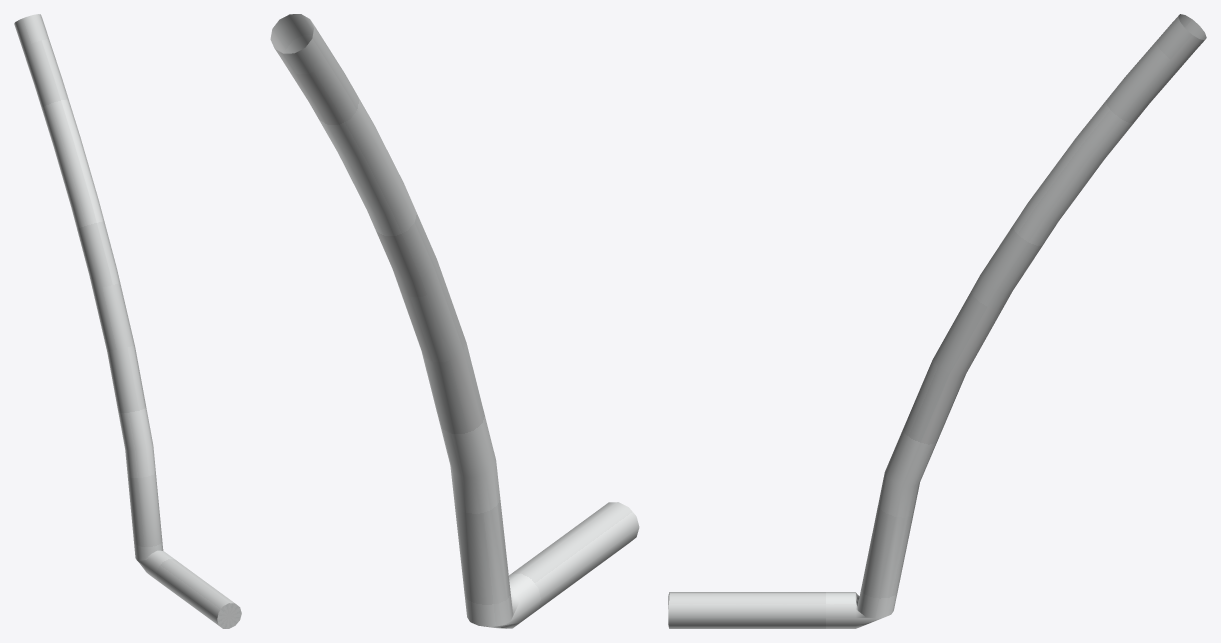
File: luminairearm_laupsweep12ft_c1_pedestal.obj
The picture shows the model from 3 angles, left to right: view 1: azimuth 30°, elevation 25°; view 2: azimuth 150°, elevation 25°; view 3: azimuth 270°, elevation 25°; orthographic projection. The views are drawn at different scales.
Visible parts, largest first — view 1: luminairearm_laupsweep12ft_c1_pedestal; view 2: luminairearm_laupsweep12ft_c1_pedestal; view 3: luminairearm_laupsweep12ft_c1_pedestal.
Part boxes in pixels (<box>): luminairearm_laupsweep12ft_c1_pedestal: <box>14,14,241,628</box>; luminairearm_laupsweep12ft_c1_pedestal: <box>270,14,639,628</box>; luminairearm_laupsweep12ft_c1_pedestal: <box>668,14,1206,628</box>.
Size of the model in its own units: 0.0562 by 1.02 by 0.8181.
